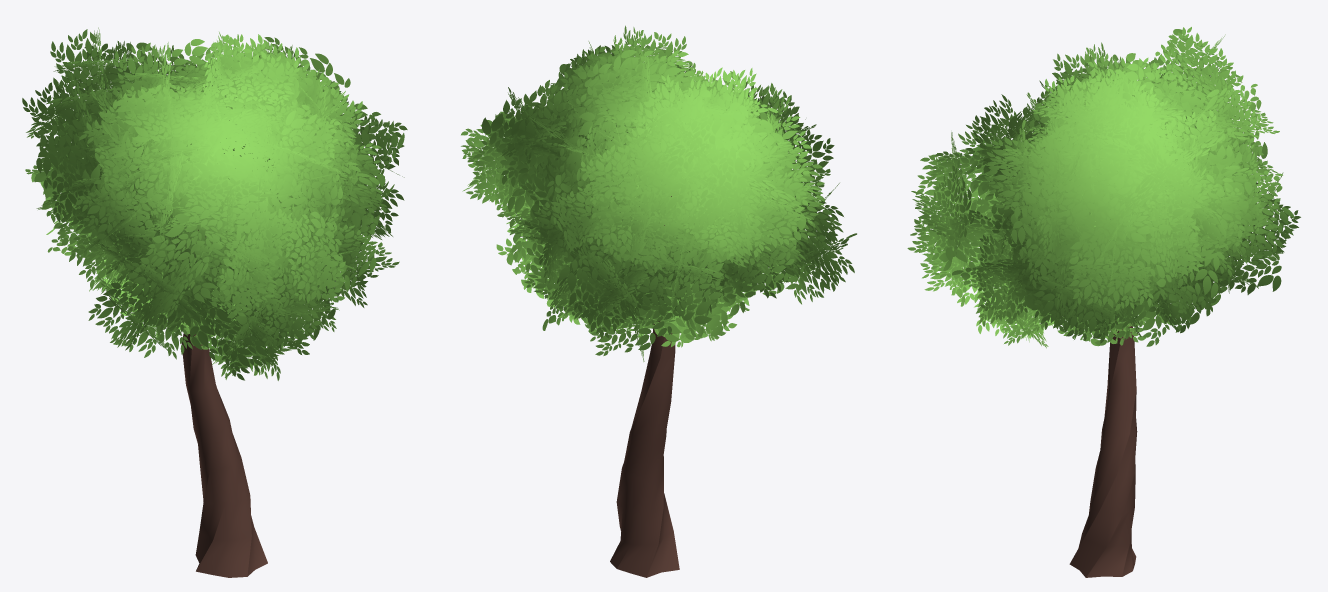
Rendered from tree.fbx.
3 renders of one model, left to right at view 1: azimuth 30°, elevation 25°; view 2: azimuth 150°, elevation 25°; view 3: azimuth 270°, elevation 25°, orthographic. The views are drawn at different scales.
Visible parts, largest first — view 1: Elm_01; view 2: Elm_01; view 3: Elm_01.
Boxes of the visible parts, left/top/right/bottom form: Elm_01: left=22, top=27, right=407, bottom=577; Elm_01: left=461, top=25, right=856, bottom=577; Elm_01: left=907, top=27, right=1300, bottom=577.
Size of what is drawn, in the model's own units: 453 by 620 by 461.
